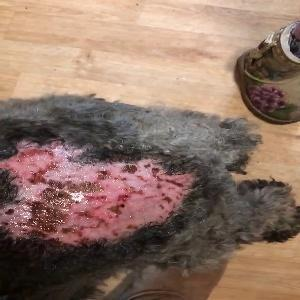skin_lesions: (0, 131, 201, 250)
